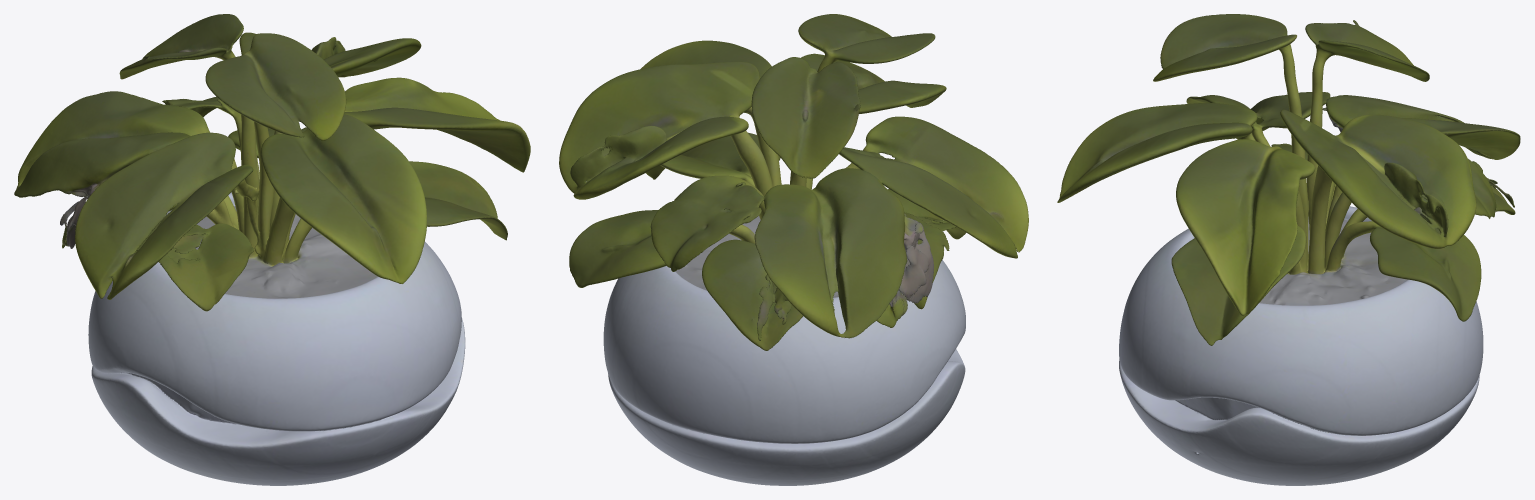
Rendered from 권예성_202601991_DP_01반_10주차실습.glb.
The picture shows the model from 3 angles, left to right: view 1: azimuth 30°, elevation 25°; view 2: azimuth 150°, elevation 25°; view 3: azimuth 270°, elevation 25°; orthographic projection. The views are drawn at different scales.
Parts seen in each view (by area): view 1: vizcom_node_0; view 2: vizcom_node_0; view 3: vizcom_node_0.
Boxes of the visible parts, <box> form: vizcom_node_0: <box>14,14,530,485</box>; vizcom_node_0: <box>559,14,1028,485</box>; vizcom_node_0: <box>1057,14,1520,485</box>.
Bounding box in the file's own units: 1 × 0.9577 × 0.9752.
Materials: 1 (1 with a texture image).
